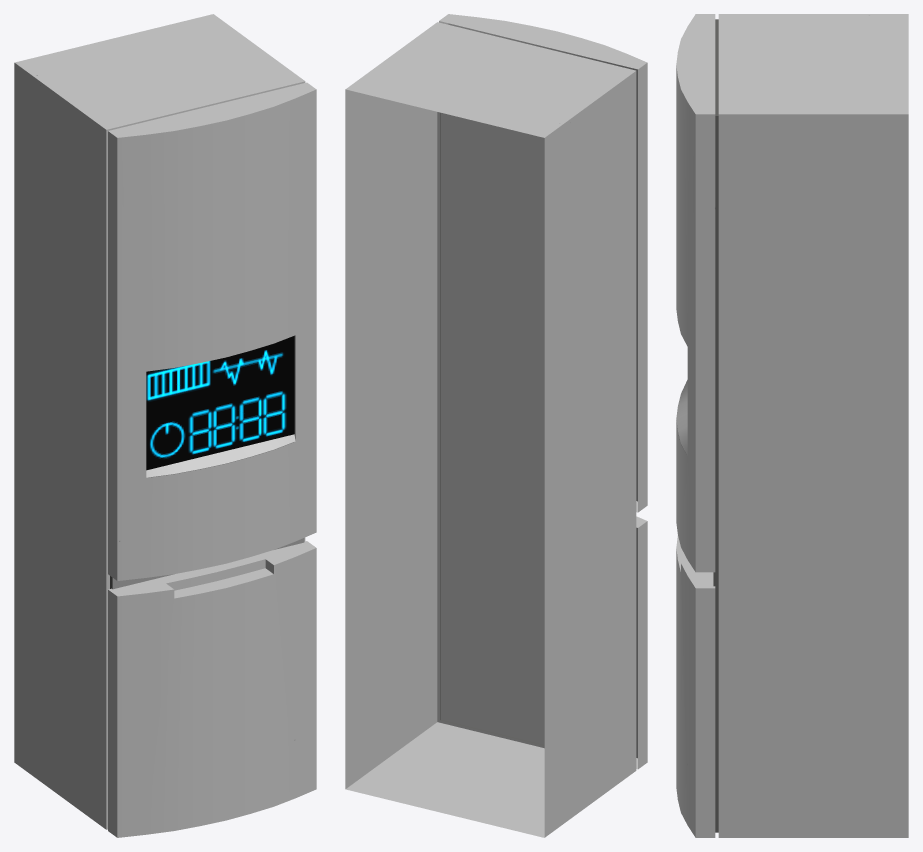
File: Fridge.fbx
3 views of the same model, side by side, from view 1: azimuth 30°, elevation 25°; view 2: azimuth 150°, elevation 25°; view 3: azimuth 270°, elevation 25° (orthographic). The views are drawn at different scales.
Visible parts, largest first — view 1: Fridge; view 2: Fridge; view 3: Fridge.
Part boxes in pixels (x1,y1,x2,y2): Fridge: (14, 14, 316, 837); Fridge: (345, 14, 647, 837); Fridge: (676, 14, 908, 837).
Size of the model in its own units: 62.5 by 210 by 61.11.
1 material, 1 textured.
